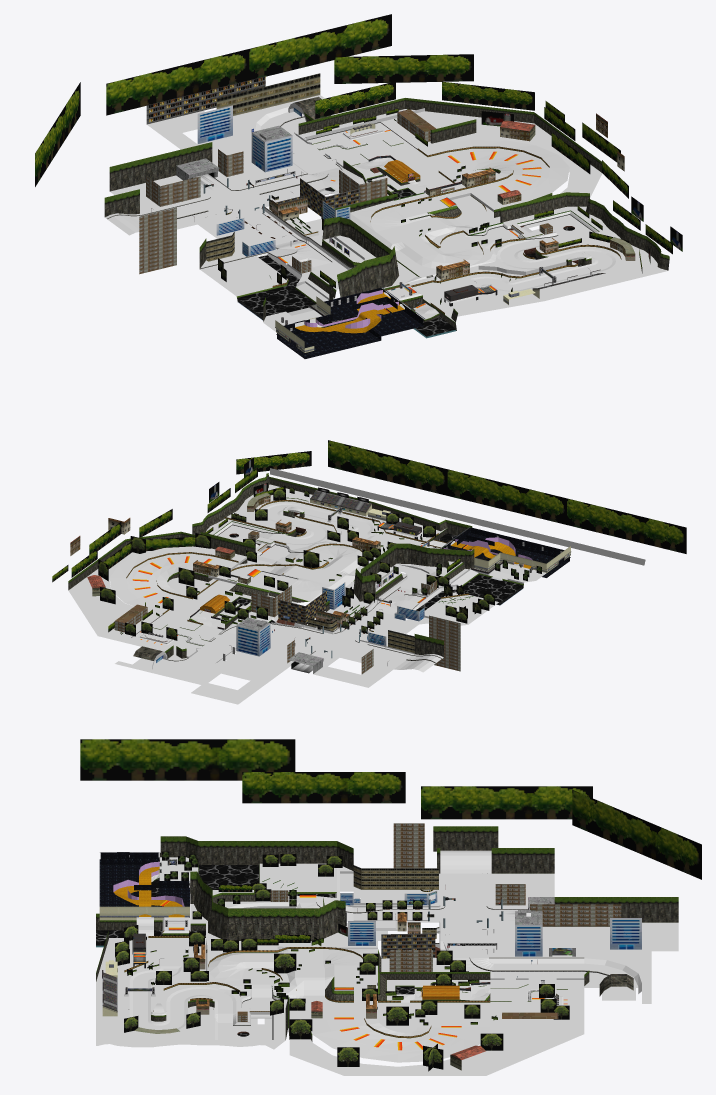
Rendered from course.glb.
3 renders of one model, top to bottom at view 1: azimuth 30°, elevation 25°; view 2: azimuth 150°, elevation 25°; view 3: azimuth 270°, elevation 25°, orthographic. The views are drawn at different scales.
Visible parts, largest first — view 1: FarmTownMODEL_SKP__tw_green, FarmTownMODEL_SKP__tw_farm, FarmTownMODEL_SKP__tw_kabe1, FarmTownMODEL_SKP__tw_road1, FarmTownMODEL_SKP__tw_hodou, FarmTownMODEL_SKP__tw_Road_00, FarmTownMODEL_SKP__tw_Bi_Mt1, FarmTownMODEL_SKP__tw_Bi_Mt4, FarmTownMODEL_SKP__tw_road, FarmTownMODEL_SKP__tw_kirakiraboshi, FarmTownMODEL_SKP__tw_Bi_Mt3, FarmTownMODEL_SKP__tw_Bi_Mt2 (+13 smaller); view 2: FarmTownMODEL_SKP__tw_farm, FarmTownMODEL_SKP__tw_green, FarmTownMODEL_SKP__tw_kabe1, FarmTownMODEL_SKP__tw_hodou, FarmTownMODEL_SKP__tw_Road_00, FarmTownMODEL_SKP__tw_road1, FarmTownMODEL_SKP__tw_kasahasi, FarmTownMODEL_SKP__tw_Bi_Mt4, FarmTownMODEL_SKP__tw_road, FarmTownMODEL_SKP__tw_Bi_Mt2, FarmTownMODEL_SKP__tw_Bi_Mt3, FarmTownMODEL_SKP__tw_SS (+14 smaller); view 3: FarmTownMODEL_SKP__tw_farm, FarmTownMODEL_SKP__tw_green, FarmTownMODEL_SKP__tw_kabe1, FarmTownMODEL_SKP__tw_hodou, FarmTownMODEL_SKP__tw_road1, FarmTownMODEL_SKP__tw_Road_00, FarmTownMODEL_SKP__tw_Bi_Mt4, FarmTownMODEL_SKP__tw_road, FarmTownMODEL_SKP__tw_Bi_Mt3, FarmTownMODEL_SKP__tw_Bi_Mt1, FarmTownMODEL_SKP__tw_kirakiraboshi, FarmTownMODEL_SKP__tw_water (+15 smaller).
Boxes of the visible parts, bbox=[...] form: FarmTownMODEL_SKP__tw_green: bbox=[200, 109, 667, 338]; FarmTownMODEL_SKP__tw_farm: bbox=[35, 14, 682, 287]; FarmTownMODEL_SKP__tw_kabe1: bbox=[104, 96, 669, 330]; FarmTownMODEL_SKP__tw_road1: bbox=[235, 122, 541, 327]; FarmTownMODEL_SKP__tw_hodou: bbox=[105, 95, 347, 280]; FarmTownMODEL_SKP__tw_Road_00: bbox=[107, 112, 496, 292]; FarmTownMODEL_SKP__tw_Bi_Mt1: bbox=[146, 73, 360, 261]; FarmTownMODEL_SKP__tw_Bi_Mt4: bbox=[139, 109, 552, 274]; FarmTownMODEL_SKP__tw_road: bbox=[320, 161, 615, 302]; FarmTownMODEL_SKP__tw_kirakiraboshi: bbox=[276, 288, 423, 358]; FarmTownMODEL_SKP__tw_Bi_Mt3: bbox=[197, 105, 350, 256]; FarmTownMODEL_SKP__tw_Bi_Mt2: bbox=[271, 113, 635, 279]; FarmTownMODEL_SKP__tw_farm: bbox=[52, 440, 686, 640]; FarmTownMODEL_SKP__tw_green: bbox=[68, 484, 546, 656]; FarmTownMODEL_SKP__tw_kabe1: bbox=[68, 473, 523, 660]; FarmTownMODEL_SKP__tw_hodou: bbox=[115, 568, 455, 704]; FarmTownMODEL_SKP__tw_Road_00: bbox=[133, 523, 441, 673]; FarmTownMODEL_SKP__tw_road1: bbox=[132, 541, 529, 649]; FarmTownMODEL_SKP__tw_kasahasi: bbox=[138, 468, 645, 657]; FarmTownMODEL_SKP__tw_Bi_Mt4: bbox=[114, 531, 460, 674]; FarmTownMODEL_SKP__tw_road: bbox=[199, 503, 432, 626]; FarmTownMODEL_SKP__tw_Bi_Mt2: bbox=[70, 492, 380, 627]; FarmTownMODEL_SKP__tw_Bi_Mt3: bbox=[236, 582, 424, 656]; FarmTownMODEL_SKP__tw_SS: bbox=[231, 488, 571, 640]; FarmTownMODEL_SKP__tw_farm: bbox=[80, 739, 701, 1071]; FarmTownMODEL_SKP__tw_green: bbox=[96, 857, 584, 1075]; FarmTownMODEL_SKP__tw_kabe1: bbox=[96, 826, 678, 1041]; FarmTownMODEL_SKP__tw_hodou: bbox=[296, 850, 678, 1003]; FarmTownMODEL_SKP__tw_road1: bbox=[139, 866, 567, 1050]; FarmTownMODEL_SKP__tw_Road_00: bbox=[133, 850, 635, 1000]; FarmTownMODEL_SKP__tw_Bi_Mt4: bbox=[237, 823, 621, 1021]; FarmTownMODEL_SKP__tw_road: bbox=[129, 917, 490, 1039]; FarmTownMODEL_SKP__tw_Bi_Mt3: bbox=[340, 890, 641, 956]; FarmTownMODEL_SKP__tw_Bi_Mt1: bbox=[353, 865, 438, 958]; FarmTownMODEL_SKP__tw_kirakiraboshi: bbox=[99, 852, 189, 906]; FarmTownMODEL_SKP__tw_water: bbox=[96, 865, 455, 1036].
Bounding box in the file's own units: 1609 × 163 × 1555.
Materials: 37 (37 with a texture image).
